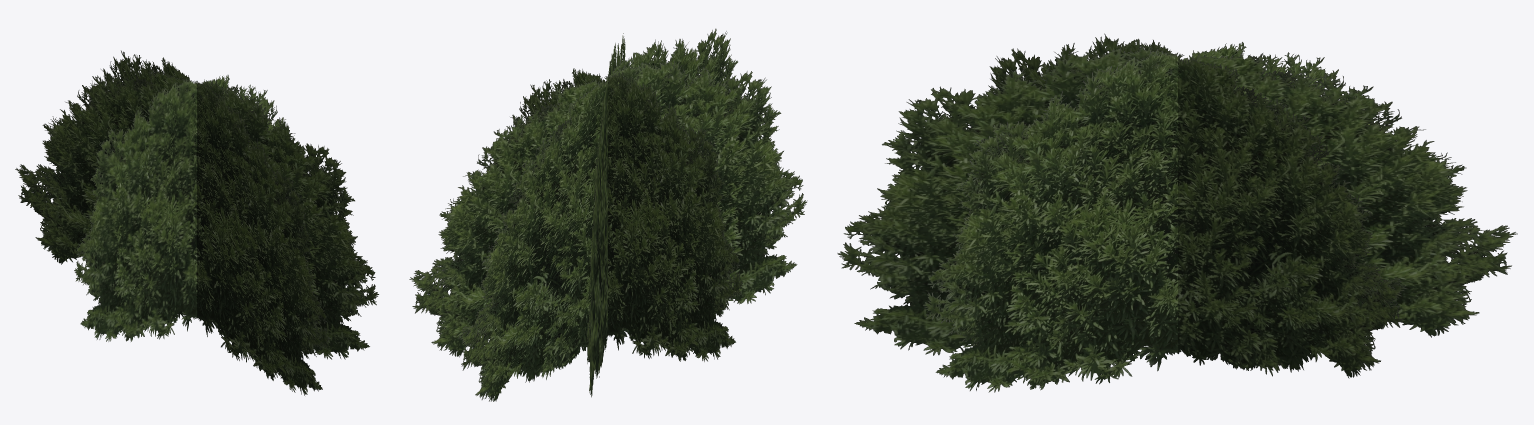
Rendered from Bush.fbx.
The picture shows the model from 3 angles, left to right: view 1: azimuth 30°, elevation 25°; view 2: azimuth 150°, elevation 25°; view 3: azimuth 270°, elevation 25°; orthographic projection. The views are drawn at different scales.
Parts seen in each view (by area): view 1: Empty.009; view 2: Empty.009; view 3: Empty.009.
Part boxes in pixels (x1,y1,x2,y2): Empty.009: [15, 50, 378, 395]; Empty.009: [409, 28, 807, 401]; Empty.009: [837, 33, 1517, 392].
Size of the model in its own units: 100 by 100 by 190.
